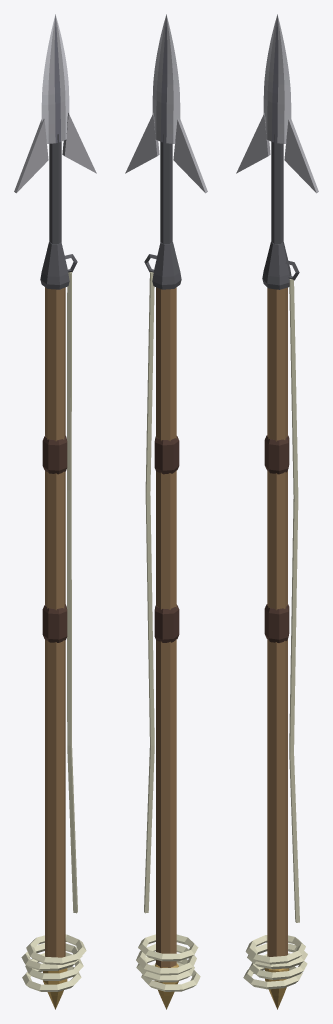
Rendered from harpoon.glb.
The picture shows the model from 3 angles, left to right: view 1: azimuth 30°, elevation 25°; view 2: azimuth 150°, elevation 25°; view 3: azimuth 330°, elevation 25°; orthographic projection.
Parts seen in each view (by area): view 1: harpoon; view 2: harpoon; view 3: harpoon.
Boxes of the visible parts, bbox=[...] form: harpoon: bbox=[14, 14, 96, 1009]; harpoon: bbox=[125, 14, 207, 1009]; harpoon: bbox=[236, 14, 318, 1009].
Size of the model in its own units: 0.2 by 2.36 by 0.138.
